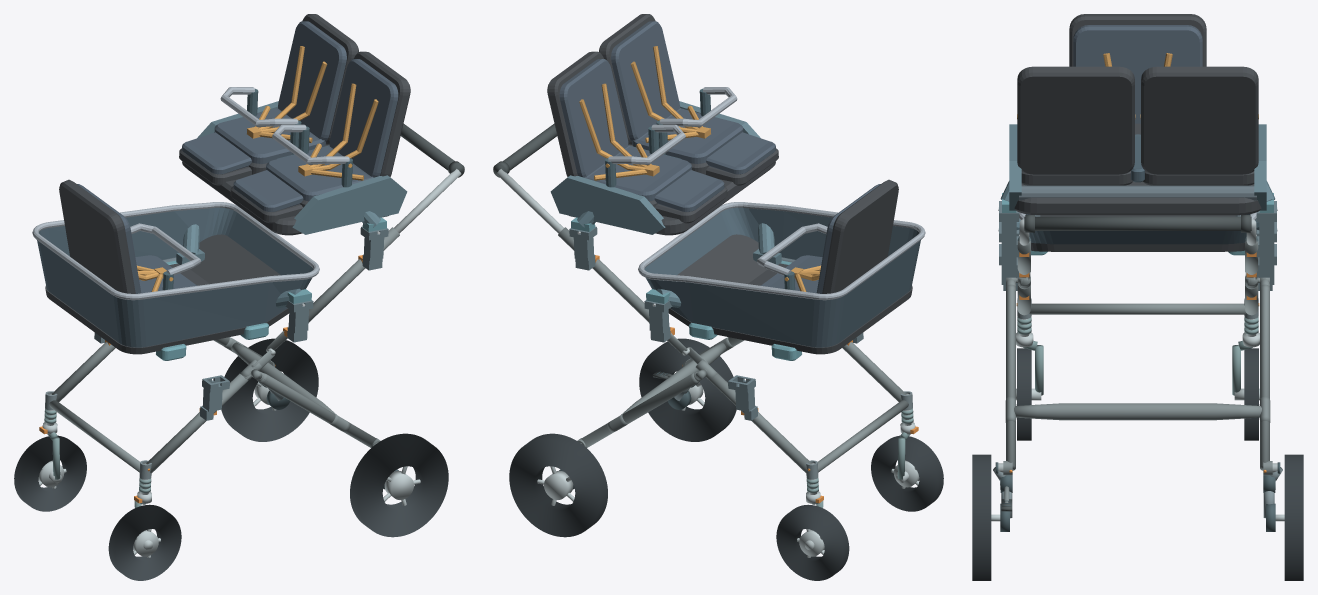
File: D29_w650_state1_wheel_M.glb
3 views of the same model, side by side, from view 1: azimuth 30°, elevation 25°; view 2: azimuth 150°, elevation 25°; view 3: azimuth 270°, elevation 25° (orthographic). The views are drawn at different scales.
Visible parts, largest first — view 1: D29_Lower, D29_Upper, RL_tire.008, RR_tire.008, FL_tire.008, FR_tire.008, V46_rear_leg_-1.009, main_lower_-1.009, D29_Lower_Mount_M, front_fixed_round_tube.008, main_upper_-1.009, V46_rearbar.009 (+7 smaller); view 2: D29_Lower, D29_Upper, RR_tire.008, RL_tire.008, FR_tire.008, FL_tire.008, V46_rear_leg_1.009, main_lower_1.009, D29_Lower_Mount_M, front_fixed_round_tube.008, main_upper_1.009, V46_rearbar.009 (+7 smaller); view 3: D29_Upper, D29_Lower, V46_rearbar.009, round_handle.008, front_fixed_round_tube.008, RL_tire.008, RR_tire.008, V46_rear_leg_1.009, V46_rear_leg_-1.009, FL_tire.008, FR_tire.008, Universal_Cabin_Receiver_H_1 (+6 smaller).
Part boxes in pixels (left/top/right/bottom): D29_Lower: left=32, top=179, right=319, bottom=360; D29_Upper: left=179, top=14, right=410, bottom=235; RL_tire.008: left=350, top=433, right=448, bottom=537; RR_tire.008: left=221, top=338, right=318, bottom=441; FL_tire.008: left=108, top=504, right=181, bottom=580; FR_tire.008: left=14, top=435, right=86, bottom=511; V46_rear_leg_-1.009: left=259, top=373, right=376, bottom=447; main_lower_-1.009: left=146, top=373, right=250, bottom=473; D29_Lower_Mount_M: left=176, top=224, right=311, bottom=307; front_fixed_round_tube.008: left=49, top=400, right=139, bottom=472; main_upper_-1.009: left=308, top=227, right=399, bottom=322; V46_rearbar.009: left=231, top=342, right=336, bottom=414; D29_Lower: left=638, top=179, right=925, bottom=360; D29_Upper: left=547, top=14, right=778, bottom=235; RR_tire.008: left=509, top=433, right=607, bottom=537; RL_tire.008: left=639, top=338, right=736, bottom=441; FR_tire.008: left=776, top=504, right=849, bottom=580; FL_tire.008: left=871, top=435, right=943, bottom=511; V46_rear_leg_1.009: left=581, top=373, right=698, bottom=447; main_lower_1.009: left=707, top=373, right=811, bottom=473; D29_Lower_Mount_M: left=646, top=223, right=781, bottom=307; front_fixed_round_tube.008: left=818, top=400, right=908, bottom=472; main_upper_1.009: left=558, top=227, right=649, bottom=322; V46_rearbar.009: left=621, top=342, right=726, bottom=414; D29_Upper: left=1009, top=66, right=1266, bottom=215; D29_Lower: left=1019, top=14, right=1256, bottom=255; V46_rearbar.009: left=1014, top=403, right=1261, bottom=420; round_handle.008: left=1024, top=216, right=1251, bottom=230; front_fixed_round_tube.008: left=1029, top=303, right=1246, bottom=314; RL_tire.008: left=972, top=454, right=991, bottom=580; RR_tire.008: left=1284, top=454, right=1303, bottom=580; V46_rear_leg_1.009: left=1260, top=284, right=1269, bottom=470; V46_rear_leg_-1.009: left=1006, top=284, right=1015, bottom=470; FL_tire.008: left=1017, top=348, right=1031, bottom=440; FR_tire.008: left=1244, top=348, right=1258, bottom=440; Universal_Cabin_Receiver_H_1: left=1256, top=201, right=1276, bottom=257.
Size of the model in its own units: 1.16 by 1.37 by 0.7871.
